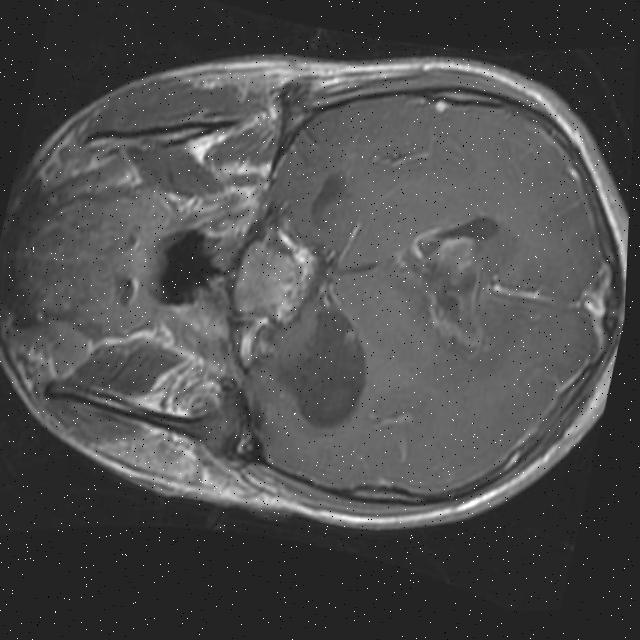Glioma: (399, 227, 505, 360)
Pituitary: (226, 234, 307, 326)
